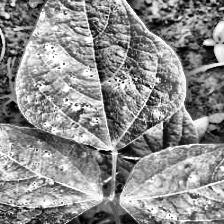ALS: (13, 0, 184, 150), (0, 103, 97, 224), (118, 141, 224, 224)
